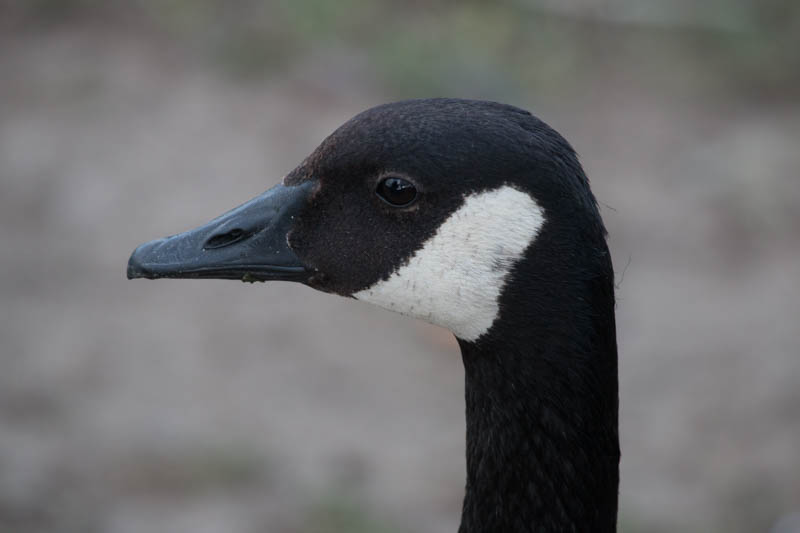goose-head: (125, 98, 614, 344)
